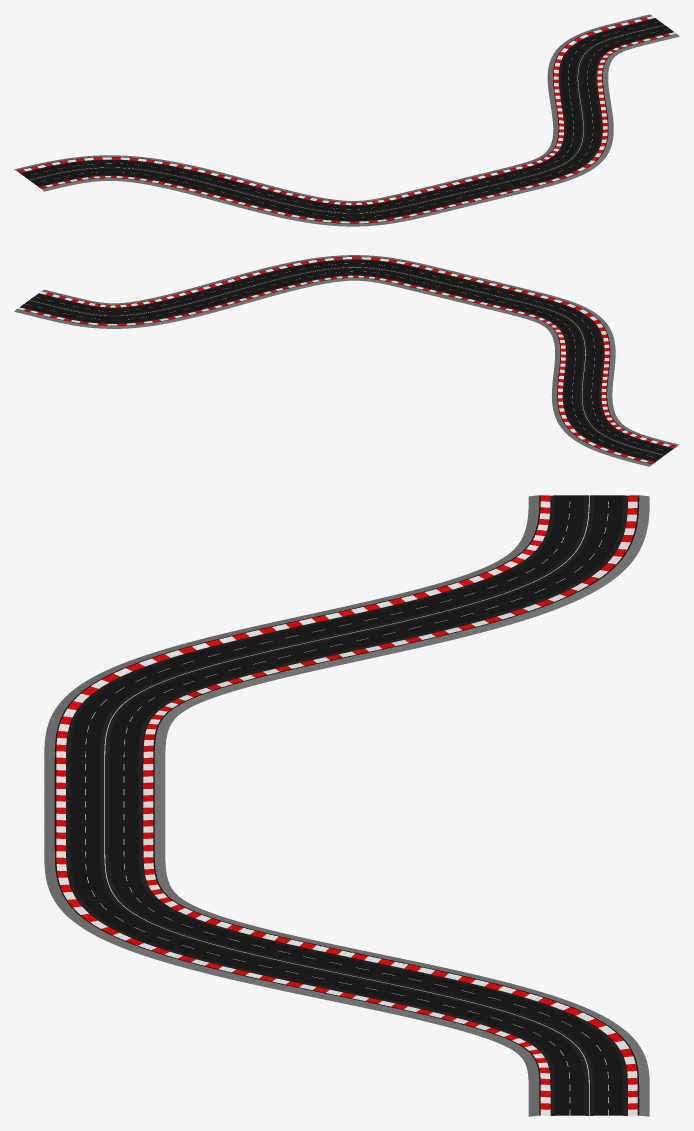
File: S0.1c1-Pie2.glb
The picture shows the model from 3 angles, top to bottom: view 1: azimuth 30°, elevation 25°; view 2: azimuth 150°, elevation 25°; view 3: azimuth 270°, elevation 25°; orthographic projection. The views are drawn at different scales.
Parts seen in each view (by area): view 1: Grid; view 2: Grid; view 3: Grid.
Boxes of the visible parts, x1,y1,x2,y2 form: Grid: [14, 14, 679, 226]; Grid: [14, 255, 679, 466]; Grid: [44, 495, 649, 1116].
Size of the model in its own units: 303 by 0.31 by 125.
